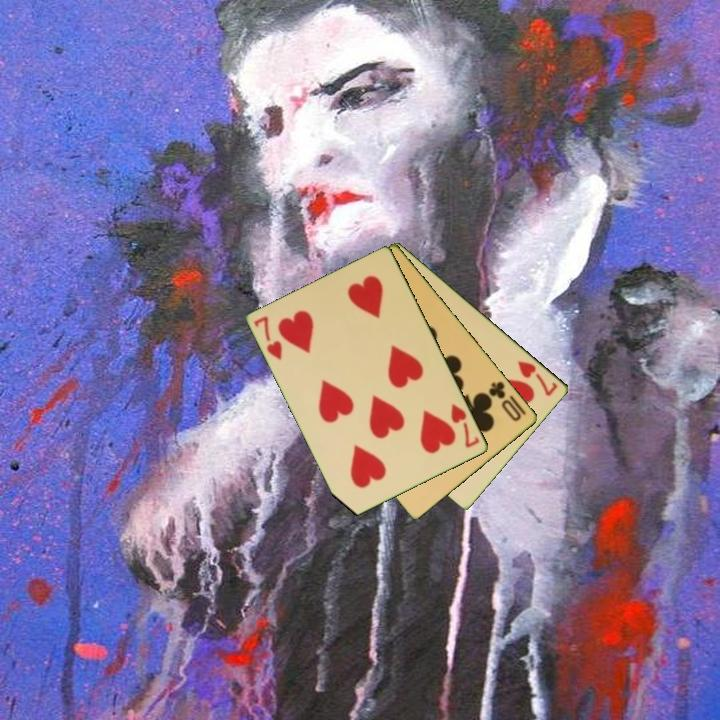10c: (485, 378, 525, 424)
7h: (514, 357, 561, 399), (448, 400, 483, 451), (251, 313, 286, 363)
